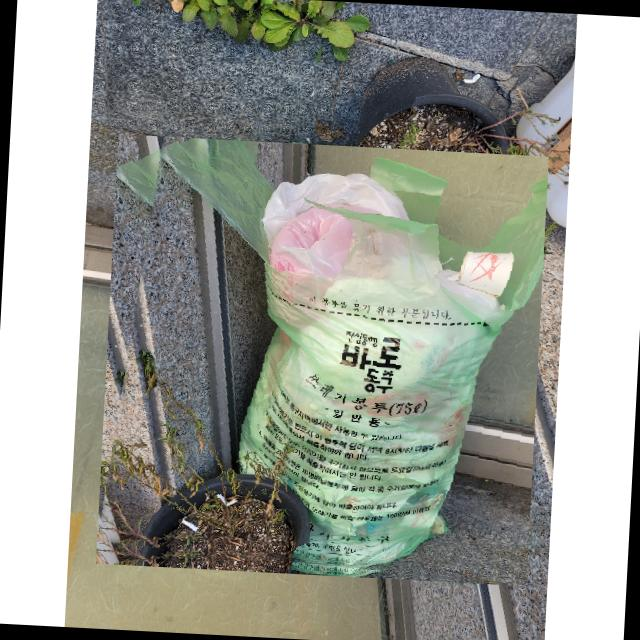general_trashbag: (150, 137, 547, 569)
